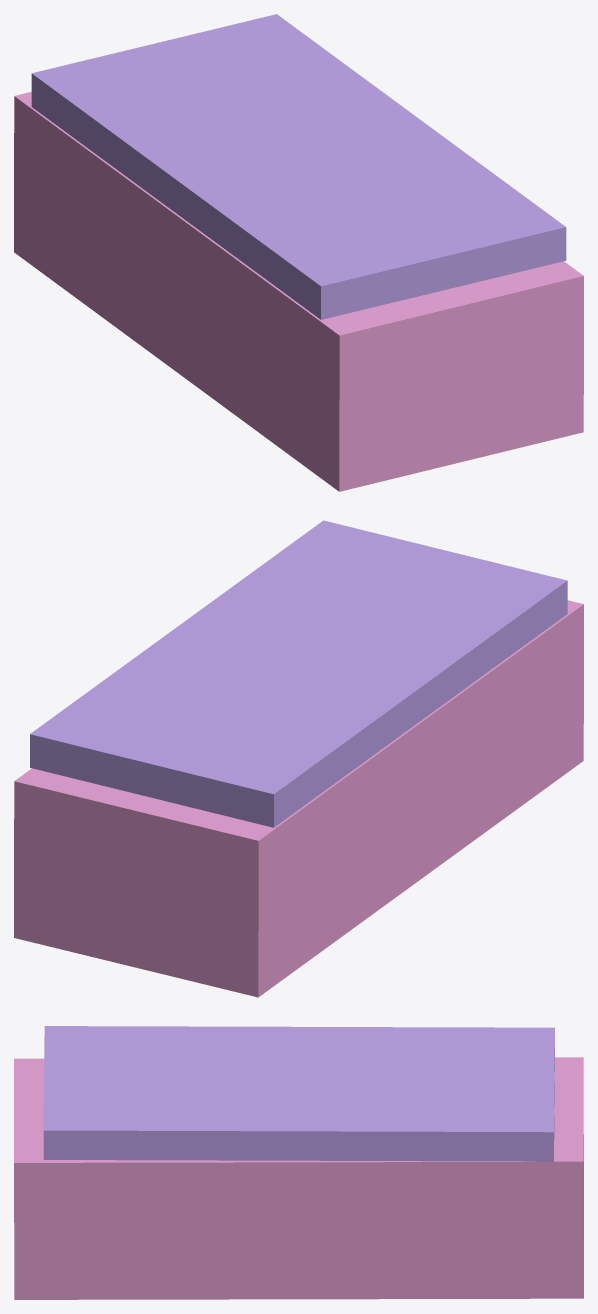
The model's file is supply-crate-valkyra.glb.
The picture shows the model from 3 angles, top to bottom: view 1: azimuth 30°, elevation 25°; view 2: azimuth 150°, elevation 25°; view 3: azimuth 270°, elevation 25°; orthographic projection. The views are drawn at different scales.
Visible parts, largest first — view 1: root_J, lid_J; view 2: root_J, lid_J; view 3: root_J, lid_J.
Part boxes in pixels (left/top/right/bottom): root_J: left=14, top=92, right=583, bottom=491; lid_J: left=31, top=14, right=566, bottom=319; root_J: left=14, top=600, right=583, bottom=997; lid_J: left=30, top=520, right=567, bottom=827; root_J: left=14, top=1057, right=583, bottom=1299; lid_J: left=43, top=1026, right=554, bottom=1161.
Size of the model in its own units: 0.8582 by 0.642 by 1.96.
